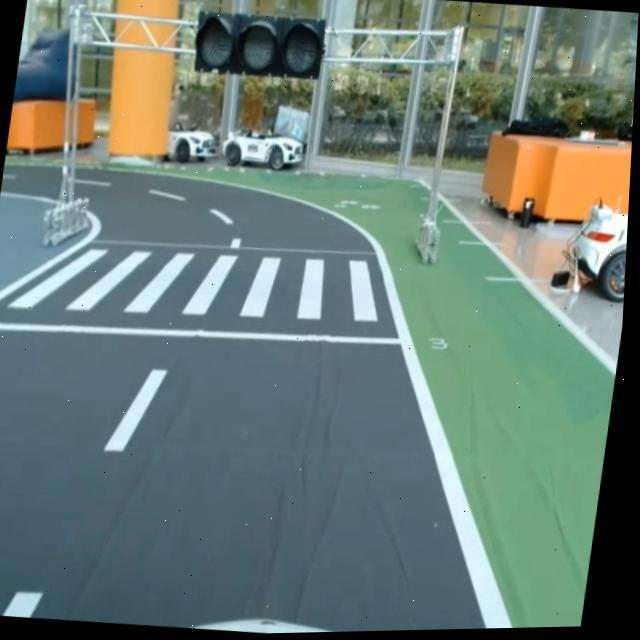traffic-light: (187, 2, 332, 82)
